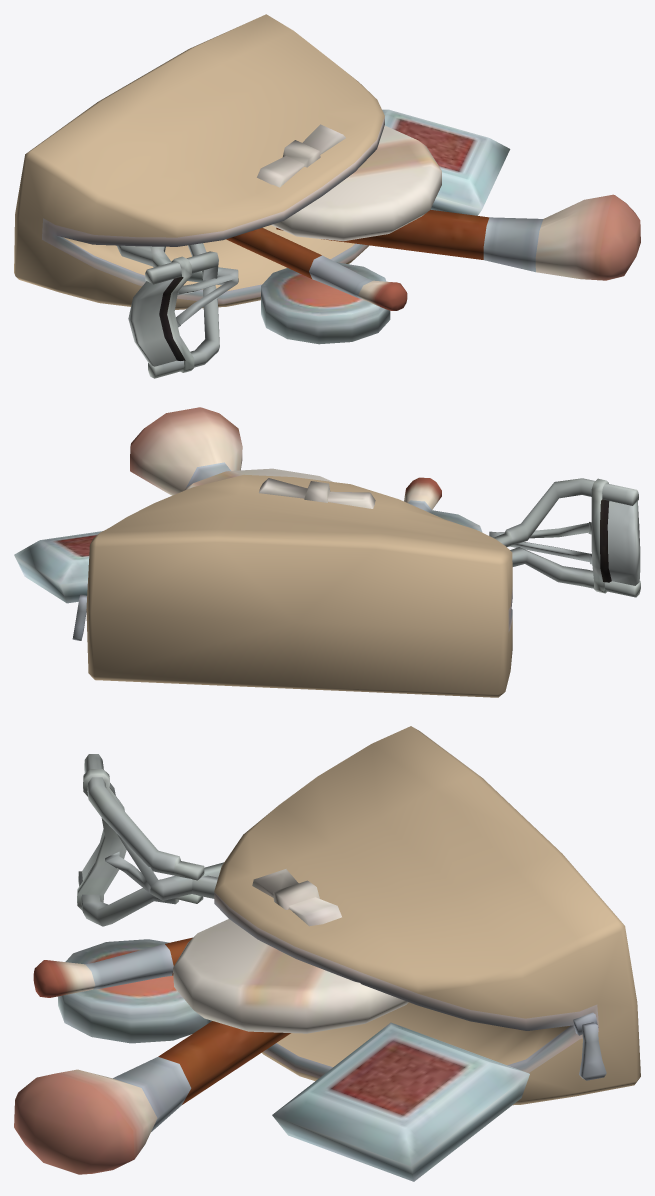
The picture shows the model from 3 angles, top to bottom: view 1: azimuth 30°, elevation 25°; view 2: azimuth 150°, elevation 25°; view 3: azimuth 270°, elevation 25°; orthographic projection. The views are drawn at different scales.
Size of the model in its own units: 6.39 by 1.73 by 5.51.
Materials: 2 (2 with a texture image).
